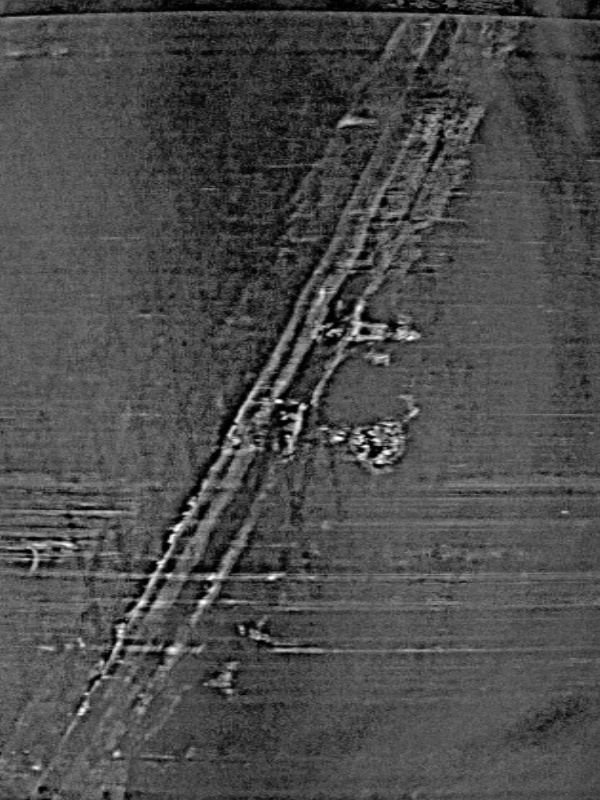splice_vulcanized: (1, 16, 517, 798)
